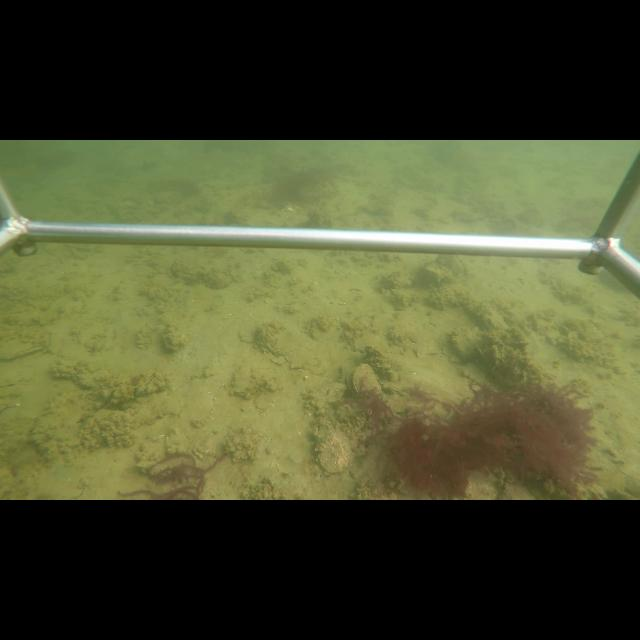Oyster-Closed: (317, 423, 355, 475)
Oyster-Open: (344, 362, 384, 398)
